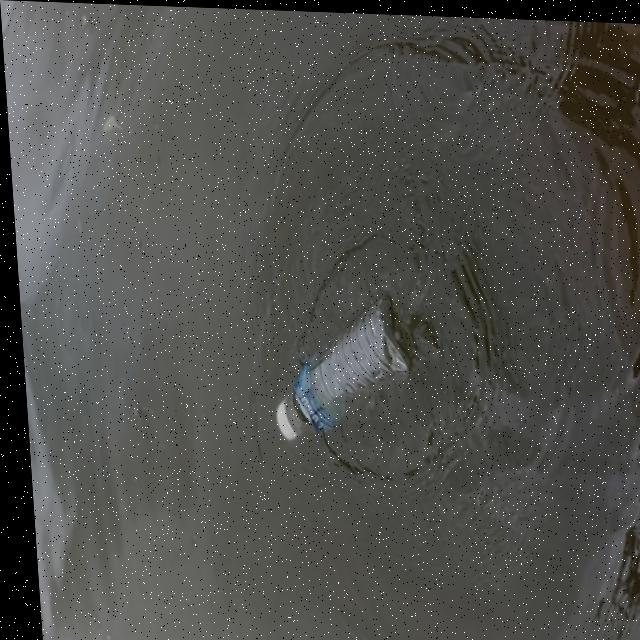waterbottle: (258, 275, 419, 453)
